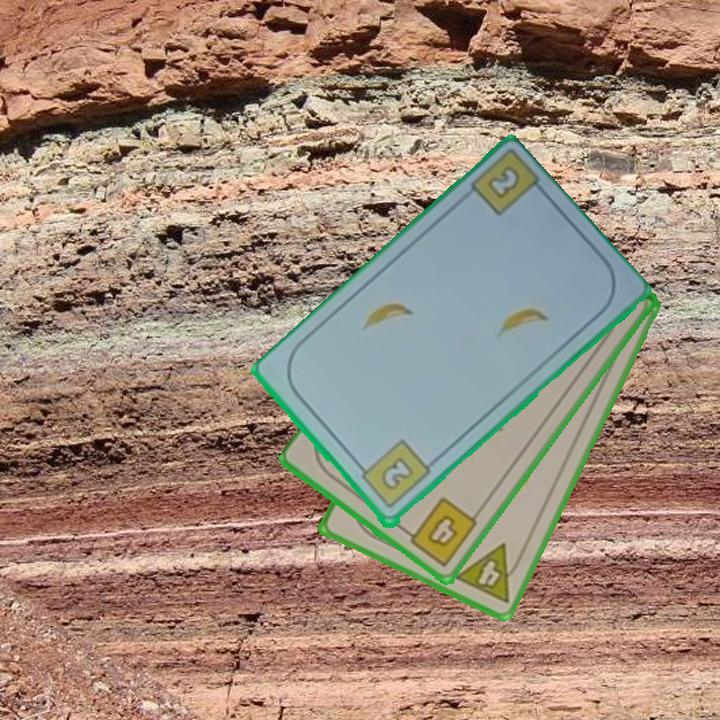2b: (354, 437, 434, 513), (483, 162, 523, 203)
4b: (400, 493, 481, 570)
4p: (450, 540, 527, 607)
